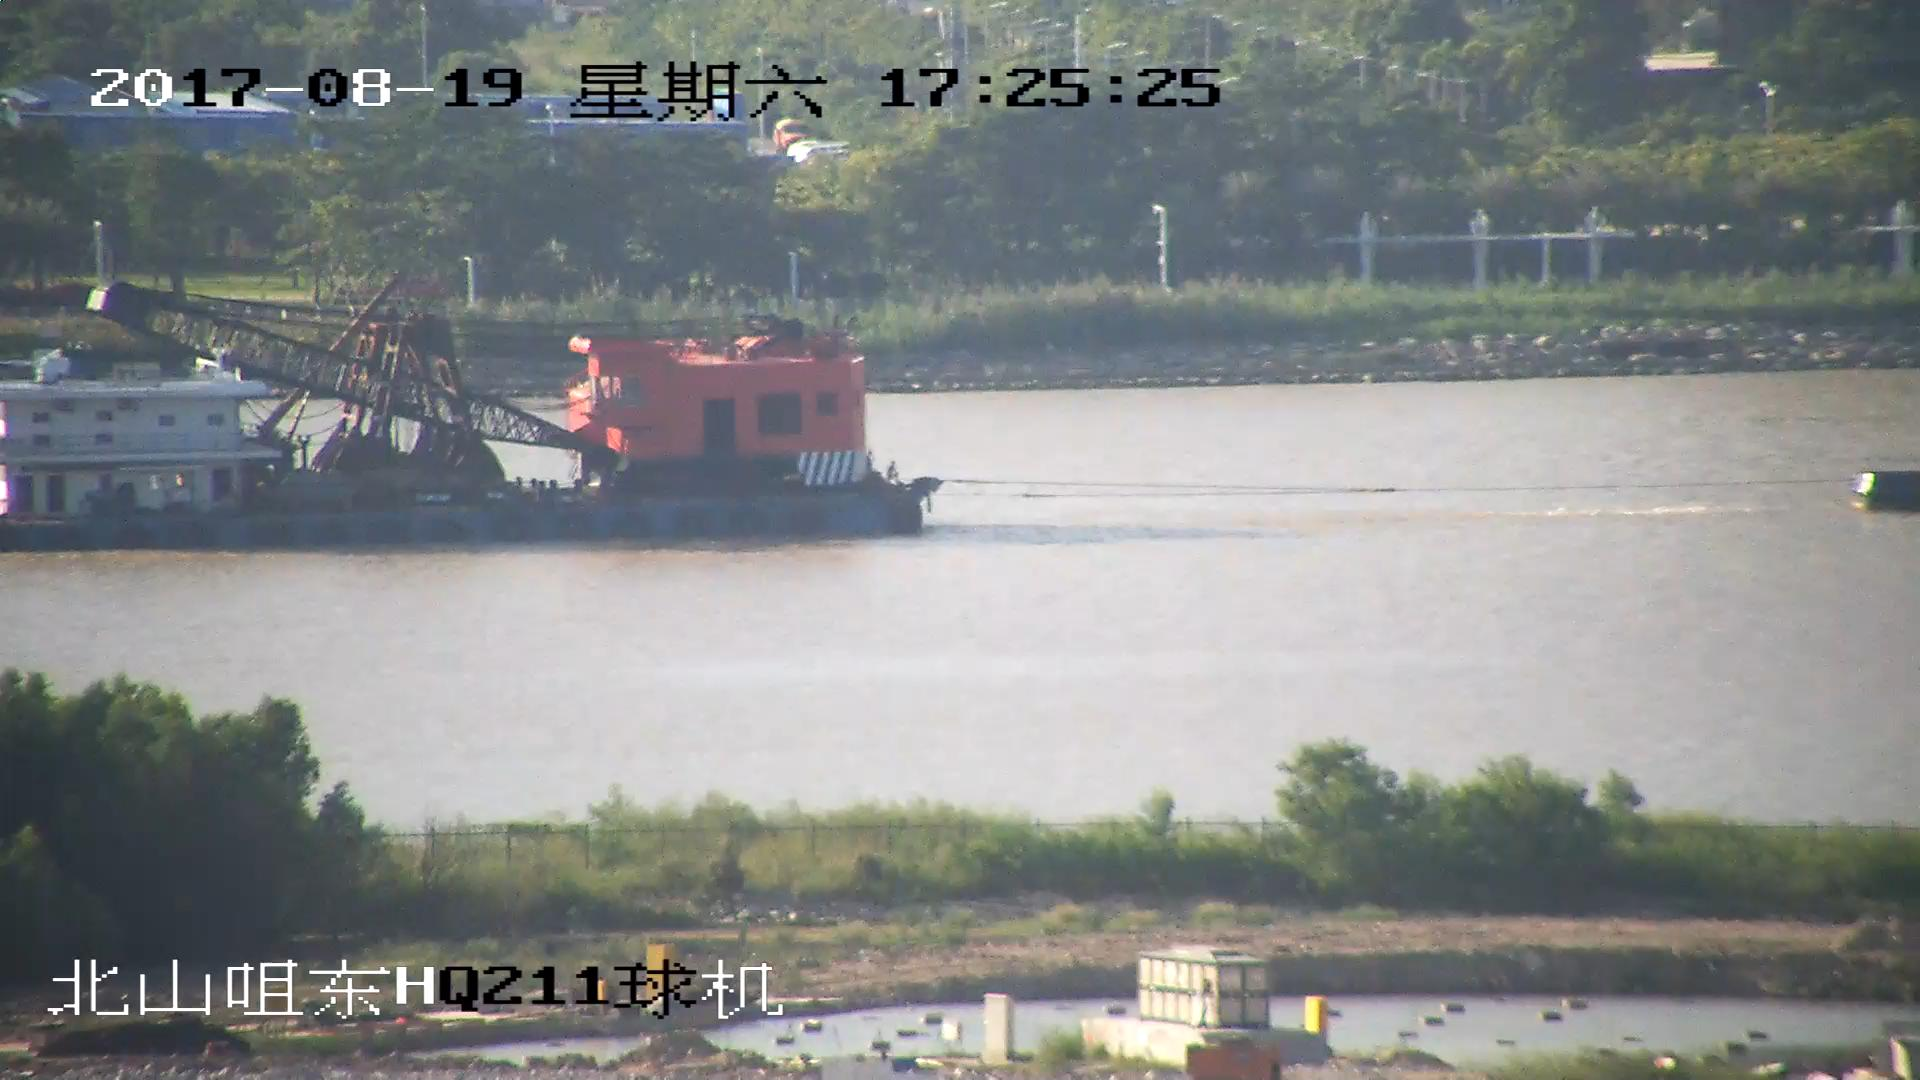fishing boat: (1, 273, 931, 543)
